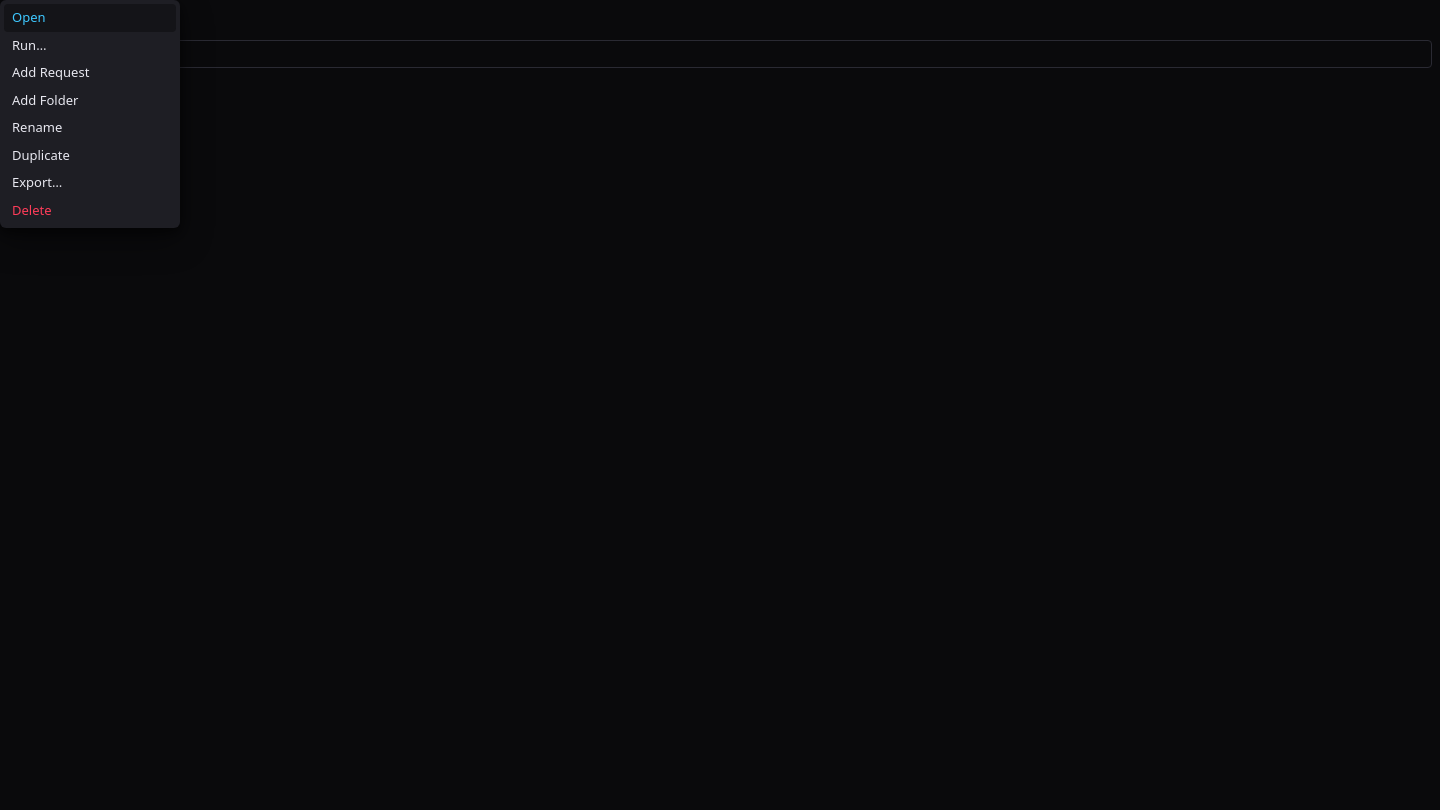
Test: SidebarPanel › keeps the delete dialog open and shows why deleting failed
Click the menu item "Delete": point(90, 210) [4,196,176,224]
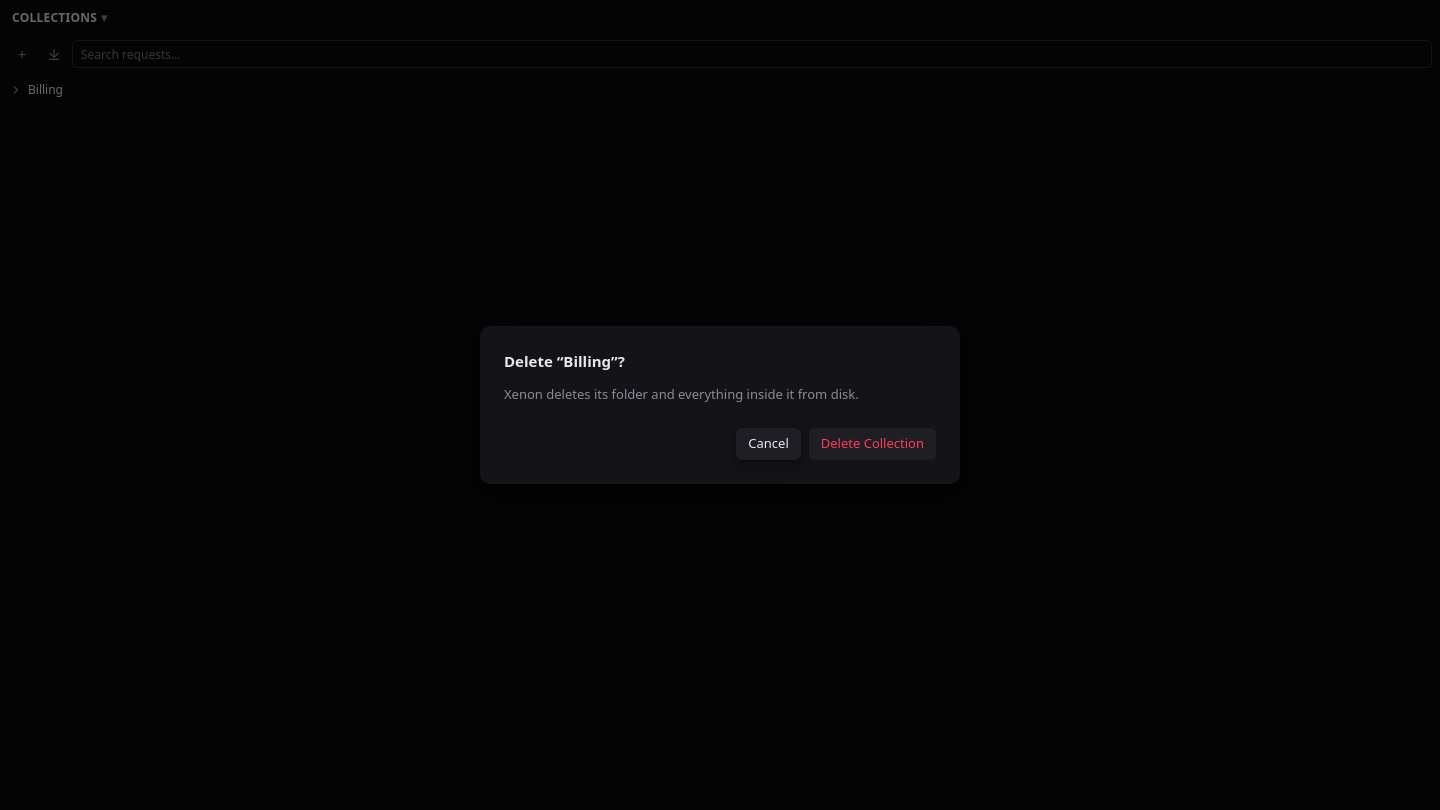
Click the button "Delete Collection": point(872, 444) [809,428,936,460]
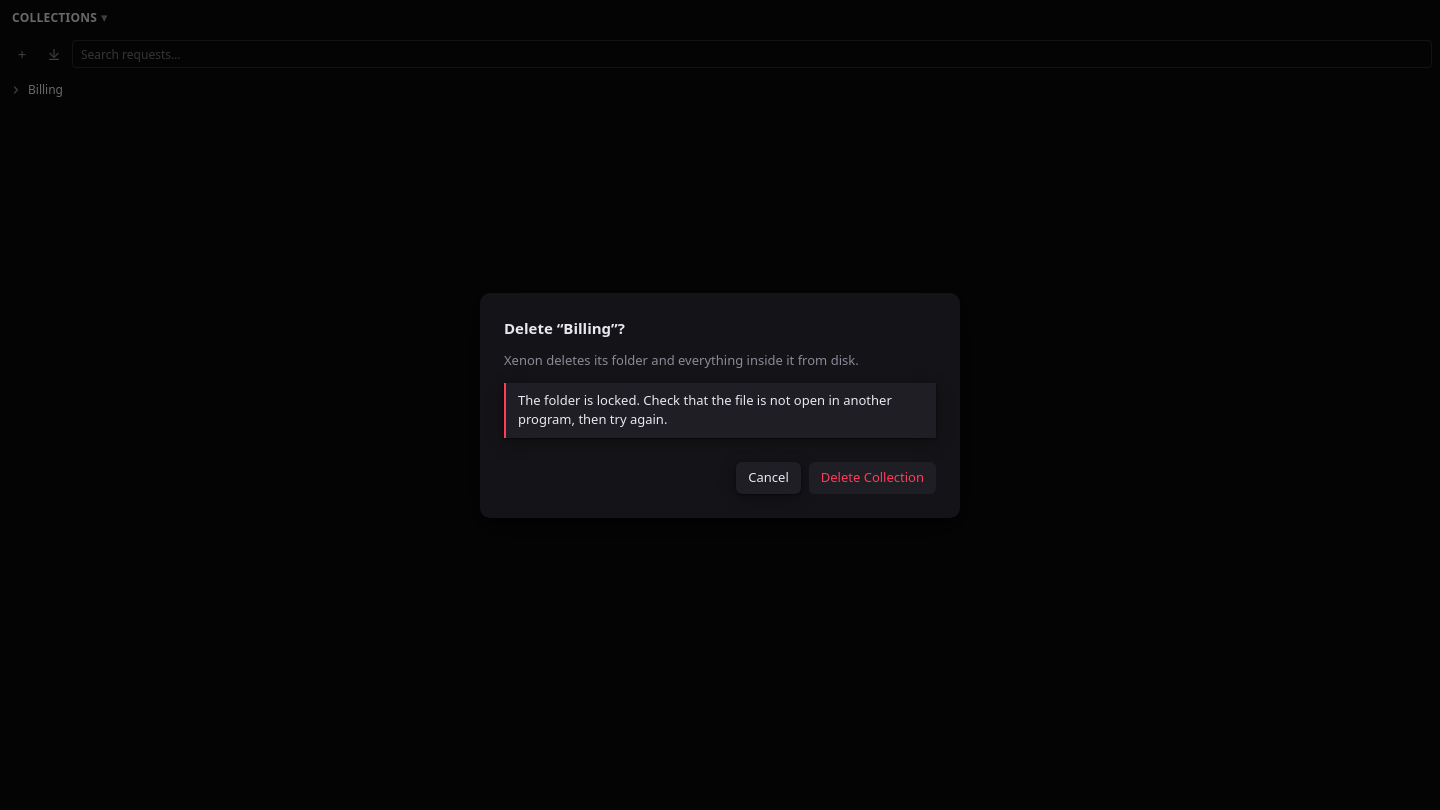
Expected: the message shows "The folder is locked. Check that the file", [518,390,892,428]
